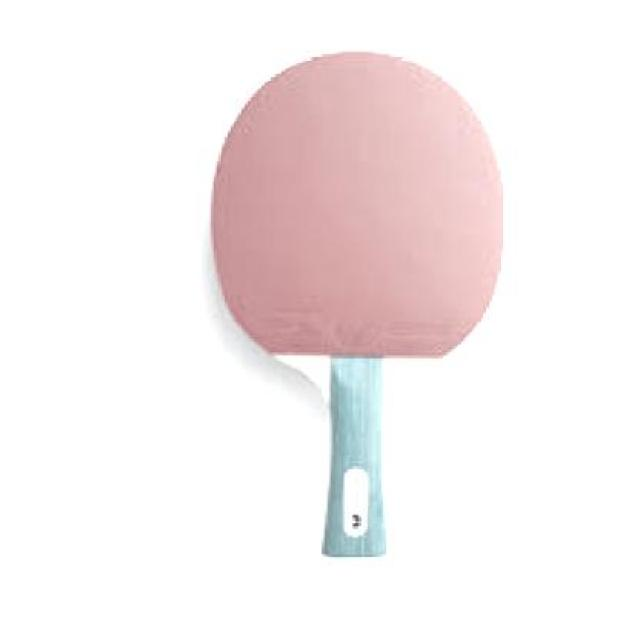table_tennis_racket: (211, 52, 508, 562)
